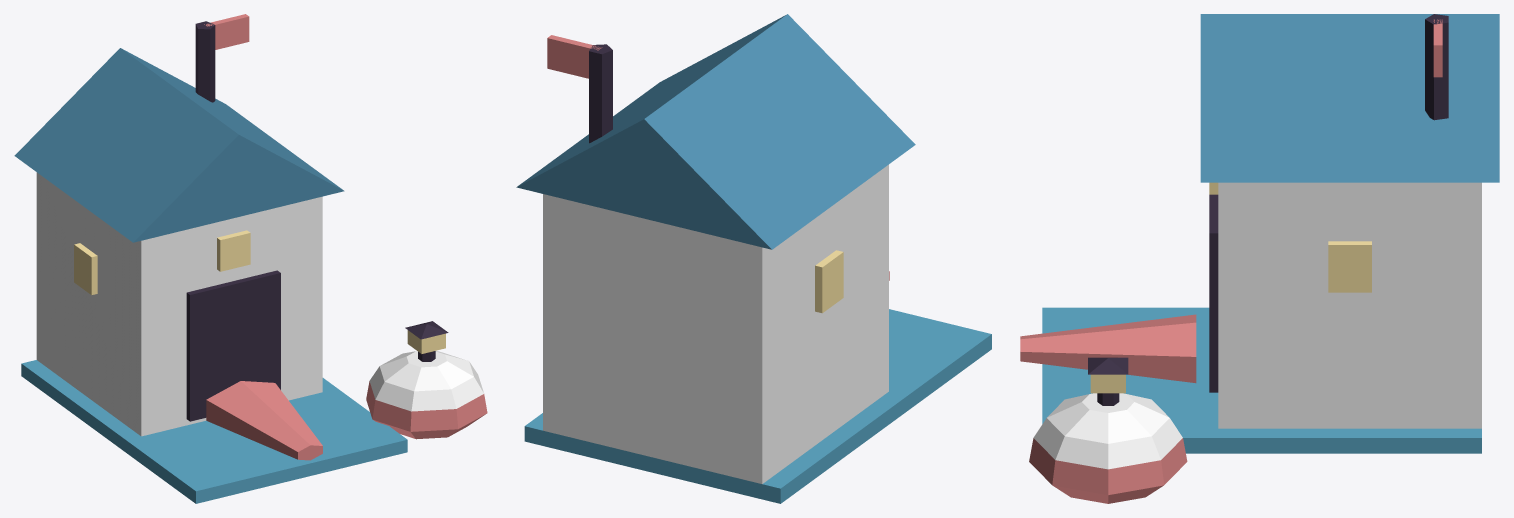
The model's file is ocean-landmark-s2b.glb.
3 renders of one model, left to right at view 1: azimuth 30°, elevation 25°; view 2: azimuth 150°, elevation 25°; view 3: azimuth 270°, elevation 25°, orthographic. The views are drawn at different scales.
Parts seen in each view (by area): view 1: ocean-landmark-s2b; view 2: ocean-landmark-s2b; view 3: ocean-landmark-s2b.
Boxes of the visible parts, x1,y1,x2,y2 form: ocean-landmark-s2b: (14, 14, 487, 503); ocean-landmark-s2b: (516, 14, 991, 503); ocean-landmark-s2b: (1020, 14, 1499, 503).
Size of the model in its own units: 1.03 by 1.02 by 1.09.
